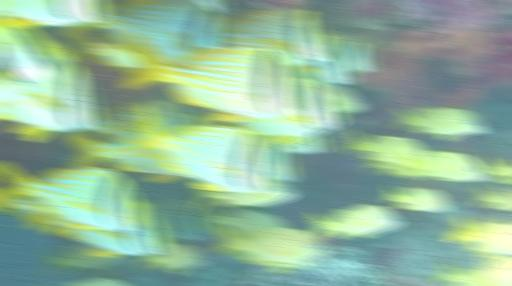Fish: (122, 36, 301, 121), (130, 106, 273, 191), (64, 0, 229, 64), (0, 161, 145, 229), (0, 58, 102, 141), (64, 120, 186, 182), (232, 78, 345, 143), (224, 8, 331, 65), (57, 203, 170, 256), (0, 28, 64, 99), (214, 226, 327, 266), (83, 100, 188, 135), (287, 37, 358, 86), (340, 128, 427, 165), (308, 204, 399, 238), (395, 106, 484, 140), (193, 180, 294, 209), (146, 200, 215, 242), (3, 0, 107, 27), (68, 33, 143, 67), (448, 216, 511, 256), (401, 151, 486, 180), (0, 196, 71, 230), (206, 206, 287, 235), (135, 244, 208, 274), (47, 244, 124, 269), (253, 137, 296, 180), (329, 35, 376, 72), (384, 185, 449, 211), (323, 85, 364, 113), (436, 263, 486, 285), (280, 132, 327, 153), (479, 256, 511, 285), (473, 186, 511, 208), (466, 213, 511, 230), (363, 161, 407, 176), (268, 259, 315, 273), (485, 155, 511, 177), (77, 278, 127, 285), (211, 0, 230, 12), (0, 0, 8, 19)
